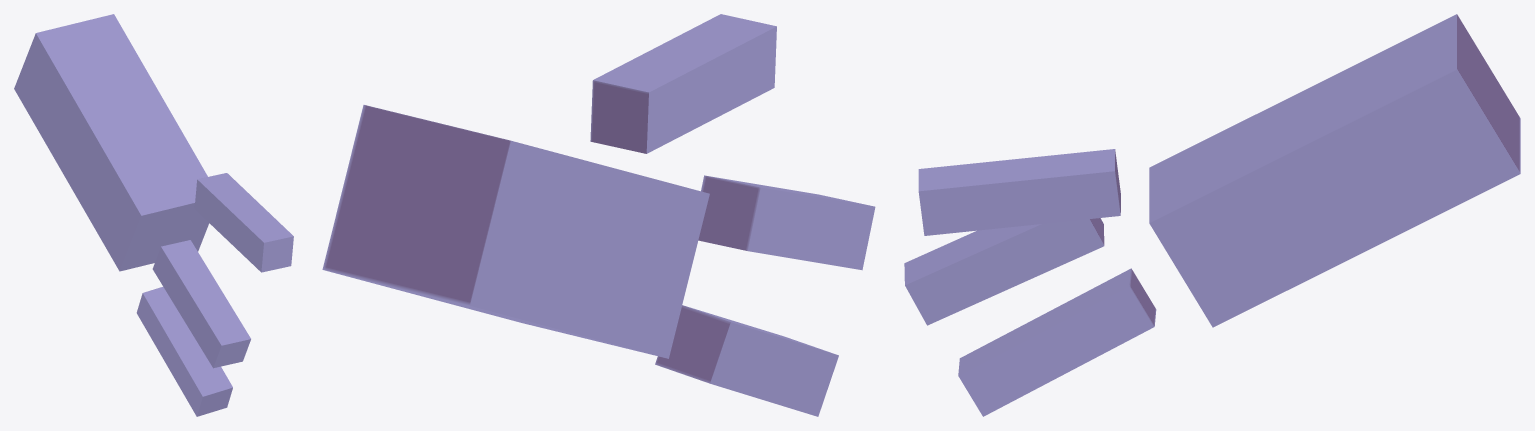
File: gea_finger3_right.glb
3 renders of one model, left to right at view 1: azimuth 30°, elevation 25°; view 2: azimuth 150°, elevation 25°; view 3: azimuth 270°, elevation 25°, orthographic. The views are drawn at different scales.
Parts seen in each view (by area): view 1: gea_arm_right, gea_finger1_right, gea_finger2_right, gea_finger3_right; view 2: gea_arm_right, gea_finger2_right, gea_finger1_right, gea_finger3_right; view 3: gea_arm_right, gea_finger2_right, gea_finger3_right, gea_finger1_right.
Part boxes in pixels (x1,y1,x2,y2): gea_arm_right: [14, 14, 209, 271]; gea_finger1_right: [152, 240, 250, 368]; gea_finger2_right: [194, 173, 293, 272]; gea_finger3_right: [136, 287, 232, 416]; gea_arm_right: [322, 105, 709, 358]; gea_finger2_right: [590, 14, 776, 153]; gea_finger1_right: [698, 175, 875, 270]; gea_finger3_right: [655, 305, 838, 416]; gea_arm_right: [1149, 14, 1520, 327]; gea_finger2_right: [918, 149, 1120, 235]; gea_finger3_right: [958, 268, 1156, 416]; gea_finger1_right: [904, 218, 1104, 325].
Size of the model in its own units: 0.5627 by 1.71 by 2.48.
1 material, 1 textured.
